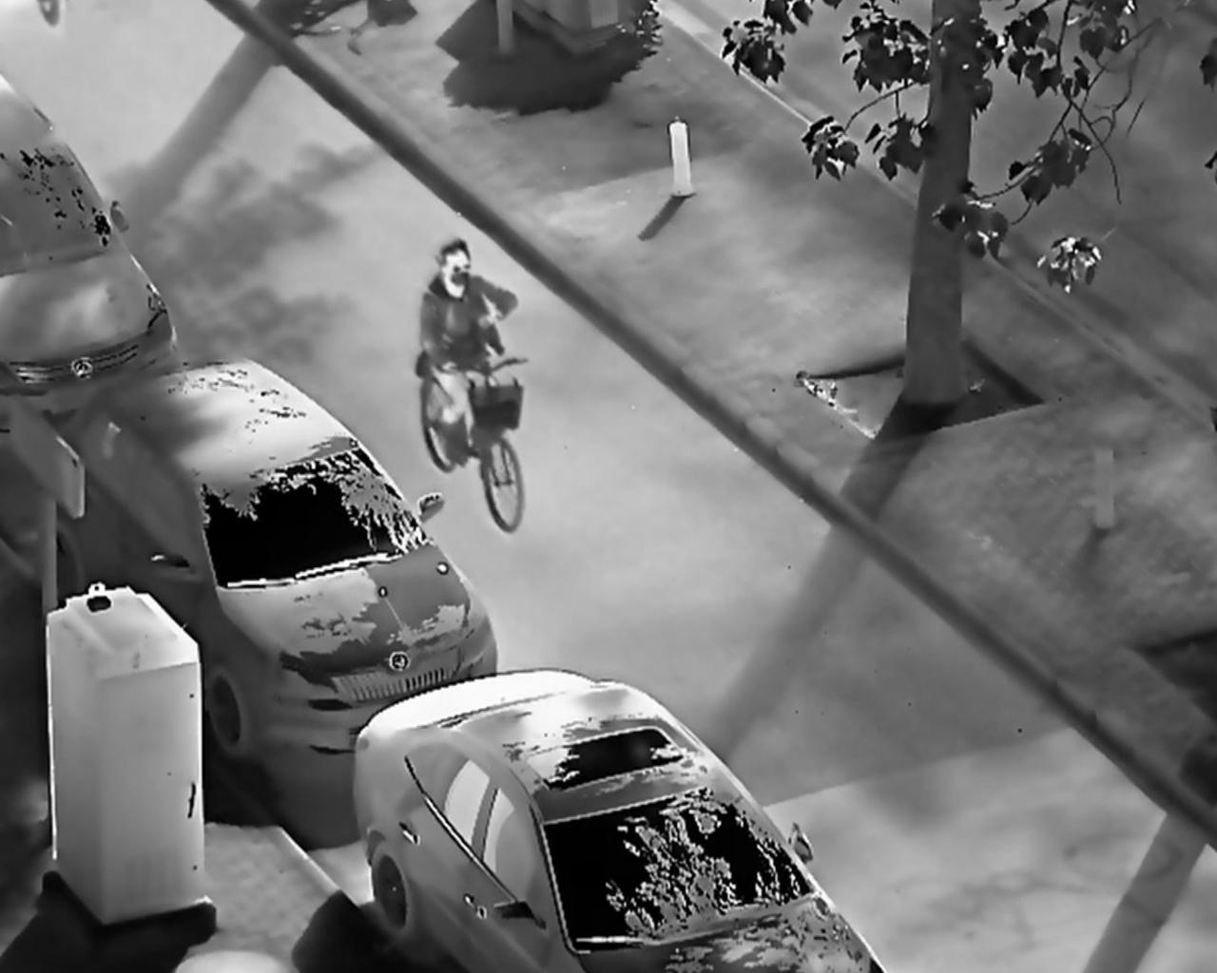person: (417, 238, 523, 465)
